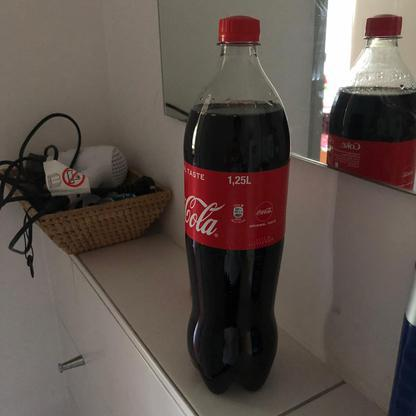coca-cola: (180, 15, 291, 398)
